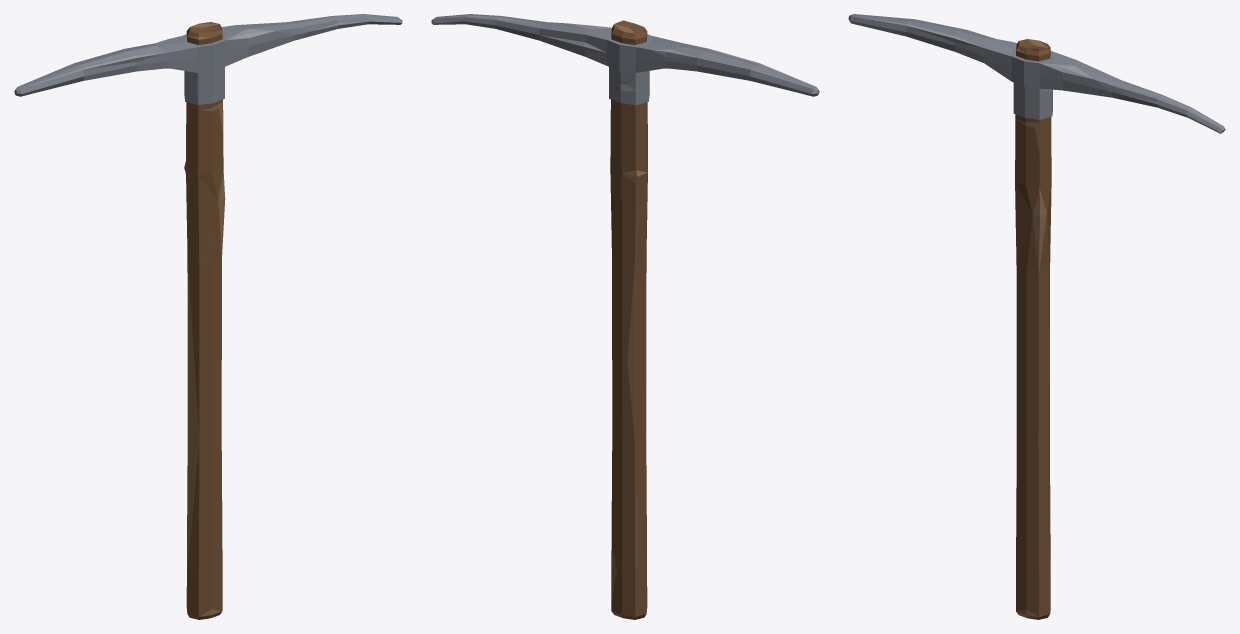
File: mesh_pickaxe.fbx
3 views of the same model, side by side, from view 1: azimuth 30°, elevation 25°; view 2: azimuth 150°, elevation 25°; view 3: azimuth 330°, elevation 25° (orthographic). The views are drawn at different scales.
Visible parts, largest first — view 1: mesh_pickaxe; view 2: mesh_pickaxe; view 3: mesh_pickaxe.
Part boxes in pixels (x1,y1,x2,y2): mesh_pickaxe: (14,14,402,619); mesh_pickaxe: (431,14,819,619); mesh_pickaxe: (848,14,1225,619).
Bounding box in the file's own units: 0.7806 × 1.14 × 0.0672.
